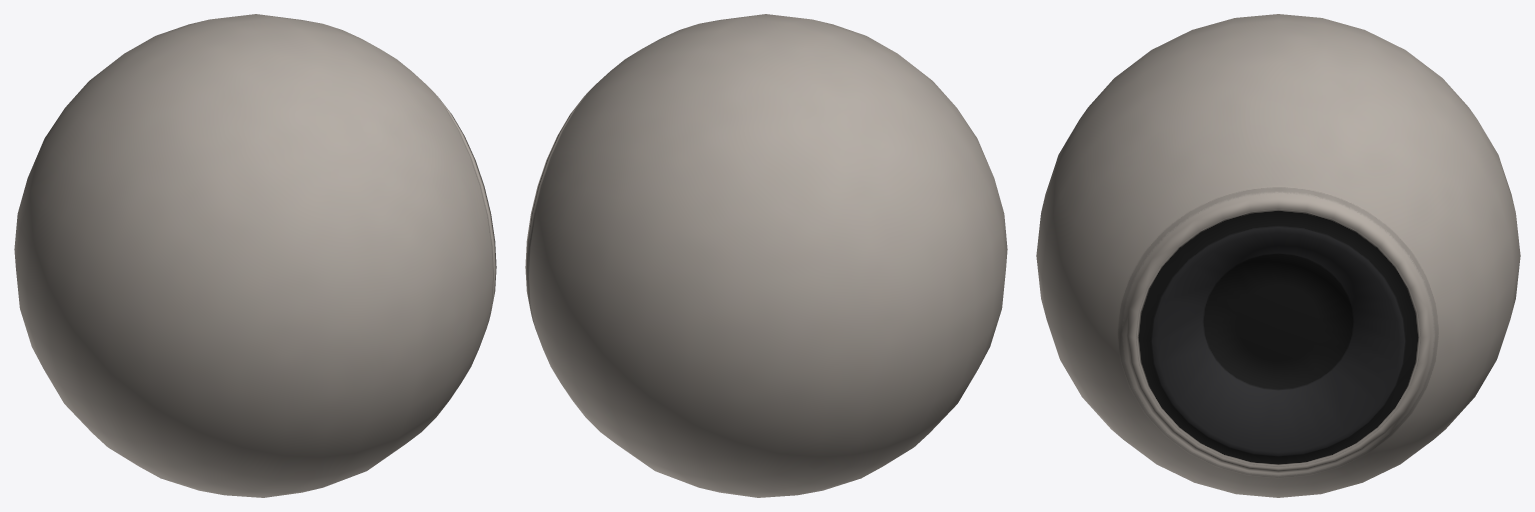
The model's file is eye_implant_lens.glb.
3 renders of one model, left to right at view 1: azimuth 30°, elevation 25°; view 2: azimuth 150°, elevation 25°; view 3: azimuth 270°, elevation 25°, orthographic.
Parts seen in each view (by area): view 1: eye_implant_lens; view 2: eye_implant_lens; view 3: eye_implant_lens.
Boxes of the visible parts, left/top/right/bottom form: eye_implant_lens: left=14, top=14, right=496, bottom=497; eye_implant_lens: left=525, top=14, right=1007, bottom=497; eye_implant_lens: left=1036, top=14, right=1520, bottom=497.
Bounding box in the file's own units: 0.0277 × 0.03 × 0.03.
1 material, 1 textured.
